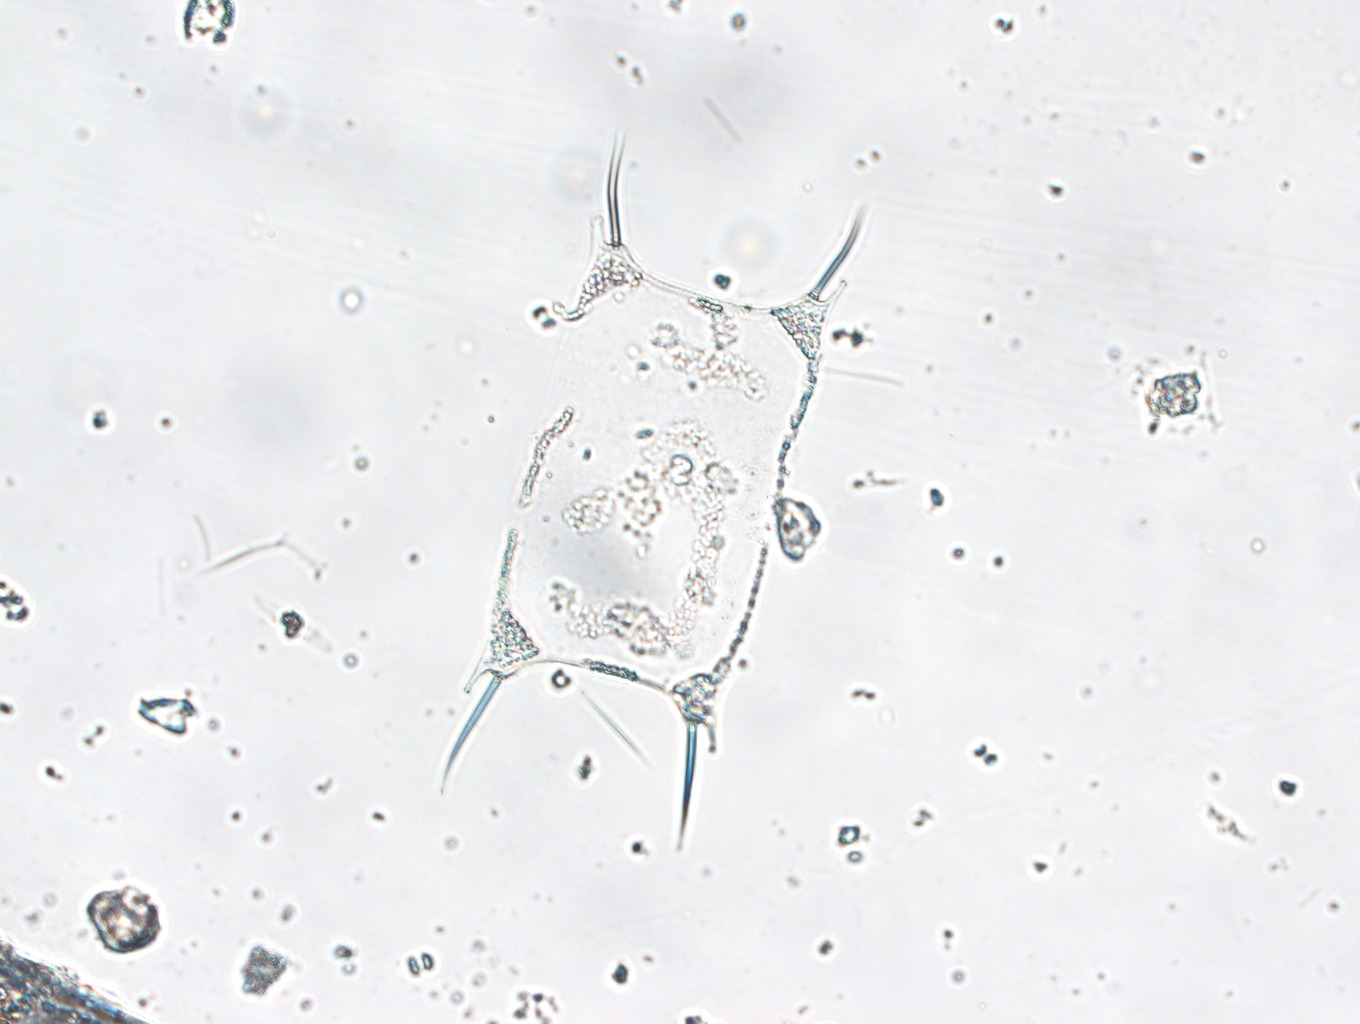biddulphia: (440, 132, 868, 852)
